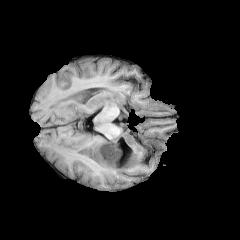glioma: (90, 136, 139, 171)
